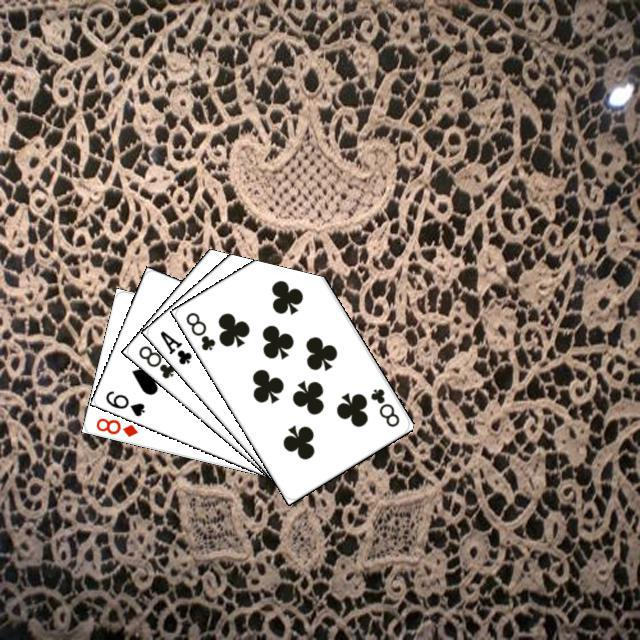6s: (100, 386, 147, 418)
8c: (133, 340, 176, 380), (365, 383, 401, 429), (181, 307, 217, 352)
8d: (91, 413, 139, 438)
Ac: (155, 326, 194, 366)
